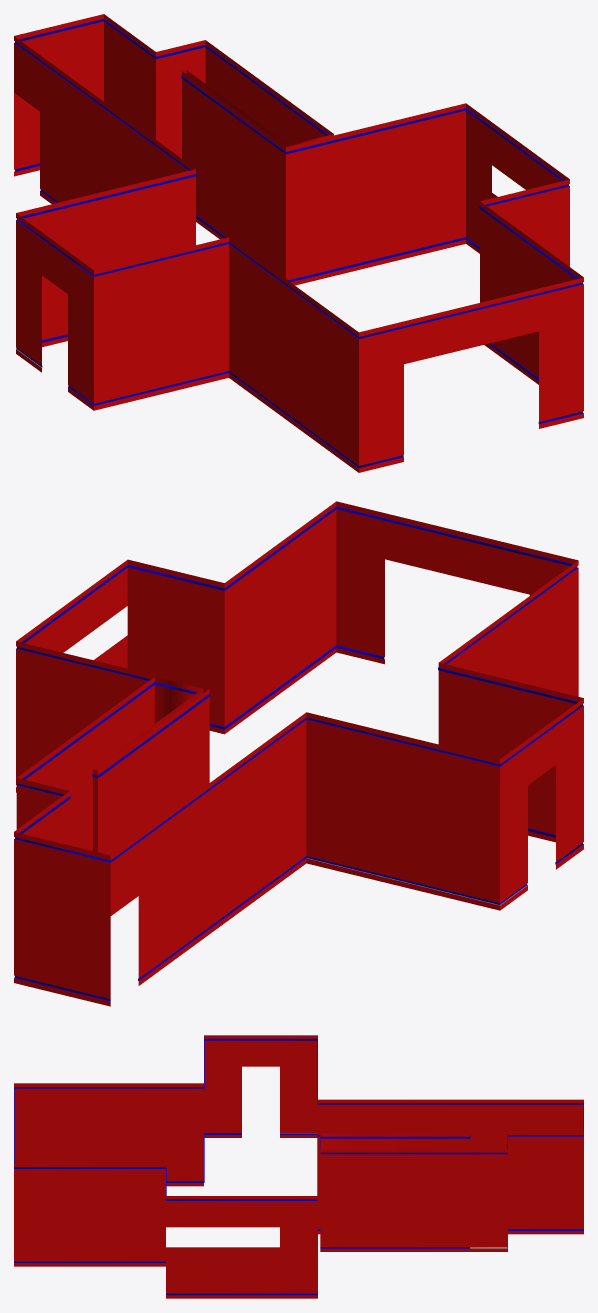
Rendered from Walls1stFloor.fbx.
3 renders of one model, top to bottom at view 1: azimuth 30°, elevation 25°; view 2: azimuth 150°, elevation 25°; view 3: azimuth 270°, elevation 25°, orthographic. The views are drawn at different scales.
Parts seen in each view (by area): view 1: Walls1stFloor; view 2: Walls1stFloor; view 3: Walls1stFloor.
Boxes of the visible parts, x1,y1,x2,y2 form: Walls1stFloor: (14,14,583,472); Walls1stFloor: (14,501,583,1006); Walls1stFloor: (14,1035,583,1298).
Size of the model in its own units: 1000 by 298 by 1500.
